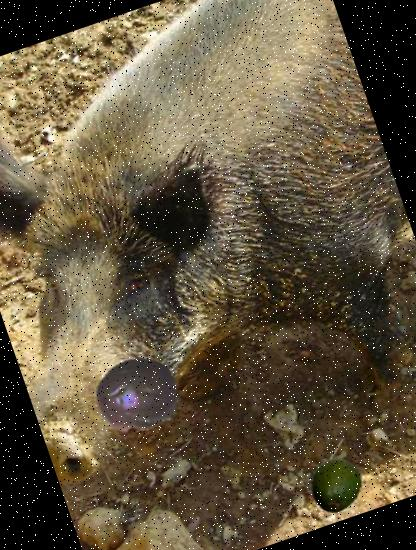Avocado: (300, 450, 370, 520)
Passion: (82, 340, 192, 449)
